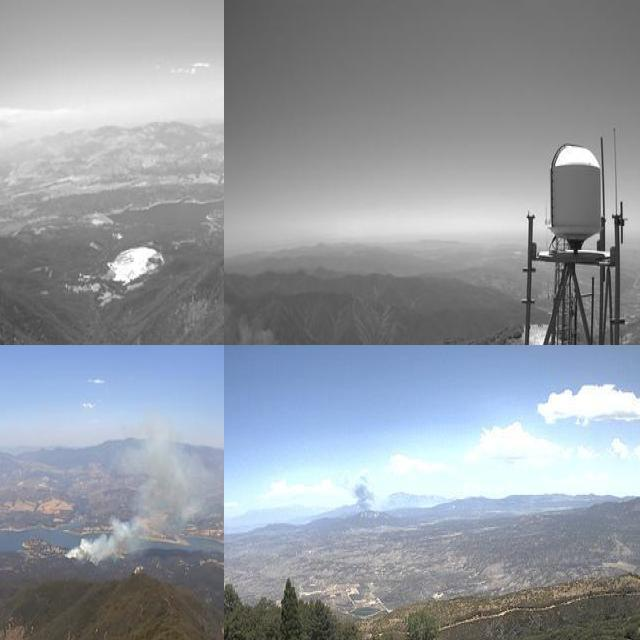smoke: (60, 416, 224, 566), (224, 296, 306, 345), (346, 475, 381, 520)
